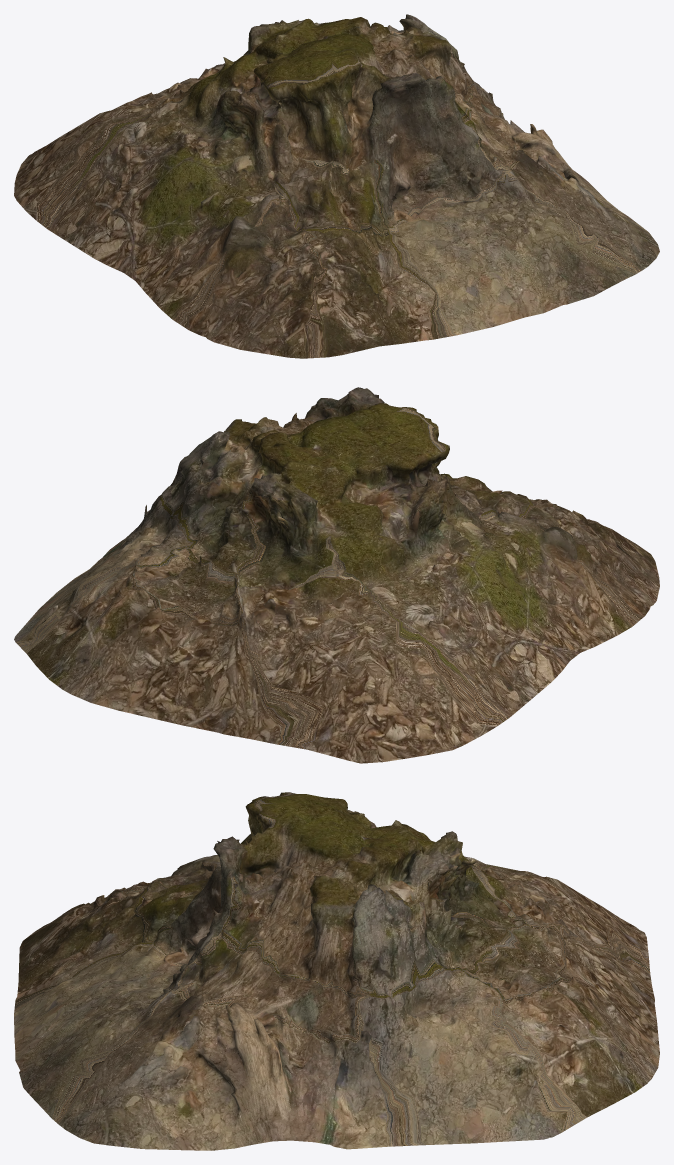
Rendered from tree_stump_01.glb.
The picture shows the model from 3 angles, top to bottom: view 1: azimuth 30°, elevation 25°; view 2: azimuth 150°, elevation 25°; view 3: azimuth 270°, elevation 25°; orthographic projection. The views are drawn at different scales.
Visible parts, largest first — view 1: tree_stump_01; view 2: tree_stump_01; view 3: tree_stump_01.
Boxes of the visible parts, left/top/right/bottom form: tree_stump_01: left=14, top=14, right=659, bottom=358; tree_stump_01: left=14, top=387, right=659, bottom=763; tree_stump_01: left=14, top=792, right=659, bottom=1150.
Bounding box in the file's own units: 1.43 × 0.5725 × 1.59.
1 material, 1 textured.
